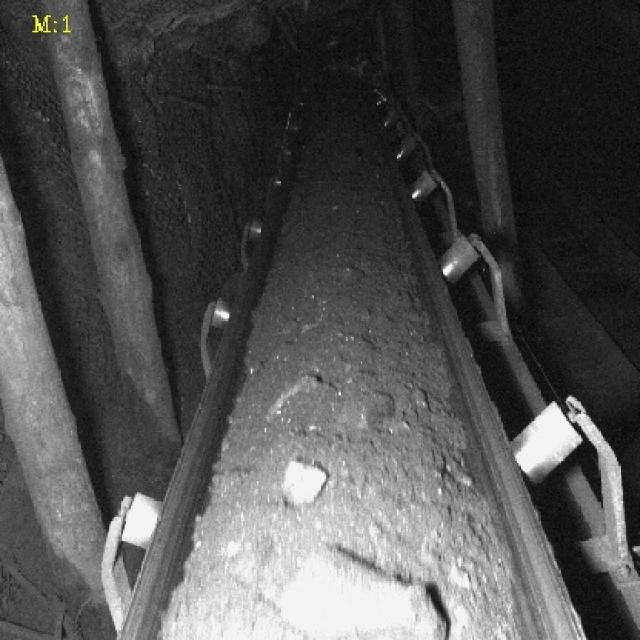large_sized_coal: (284, 547, 447, 640), (340, 388, 397, 430), (284, 460, 328, 506)
